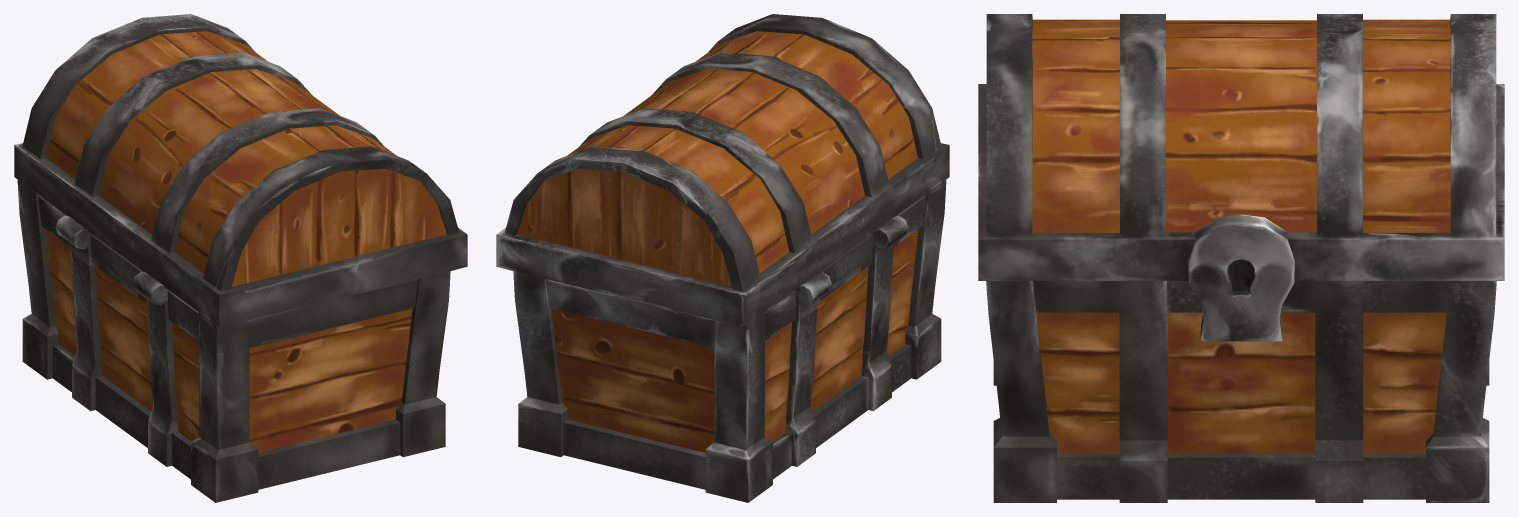
Rendered from animated_treasure_chest.glb.
The picture shows the model from 3 angles, left to right: view 1: azimuth 30°, elevation 25°; view 2: azimuth 150°, elevation 25°; view 3: azimuth 270°, elevation 25°; orthographic projection. The views are drawn at different scales.
Visible parts, largest first — view 1: Chest_Top, Chest_Bottom; view 2: Chest_Top, Chest_Bottom; view 3: Chest_Top, Chest_Bottom.
Boxes of the visible parts, <box> form: Chest_Top: <box>14,14,467,326</box>; Chest_Bottom: <box>17,180,450,502</box>; Chest_Top: <box>496,14,949,326</box>; Chest_Bottom: <box>513,180,946,502</box>; Chest_Top: <box>978,14,1504,341</box>; Chest_Bottom: <box>986,281,1496,502</box>.
Bounding box in the file's own units: 2.63 × 2.95 × 3.51.
Materials: 7 (7 with a texture image).
